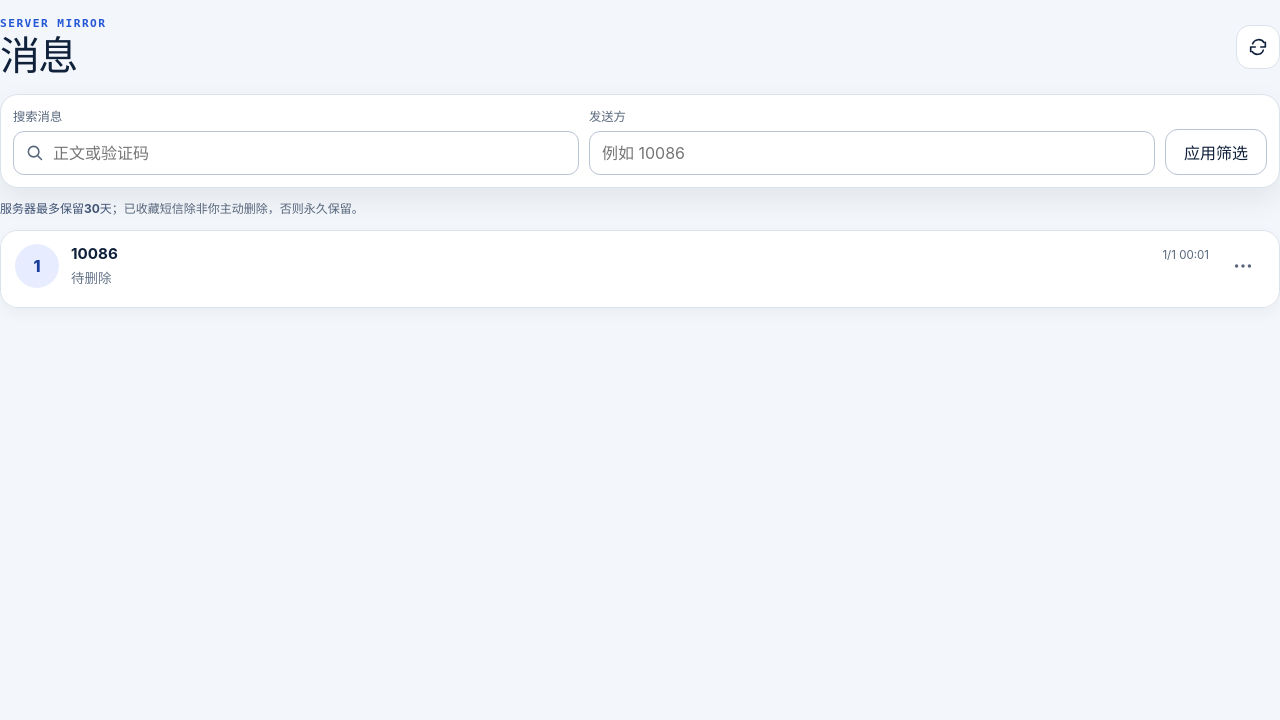
Scenario: MessagesView › 删除使用应用内二次确认且仅移除服务器列表记录
expect the text "待删除" is shown: met, box [71,270,111,286]
Click the button named "管理短信" at coordinates (1243, 266), box [1221,244,1265,288]
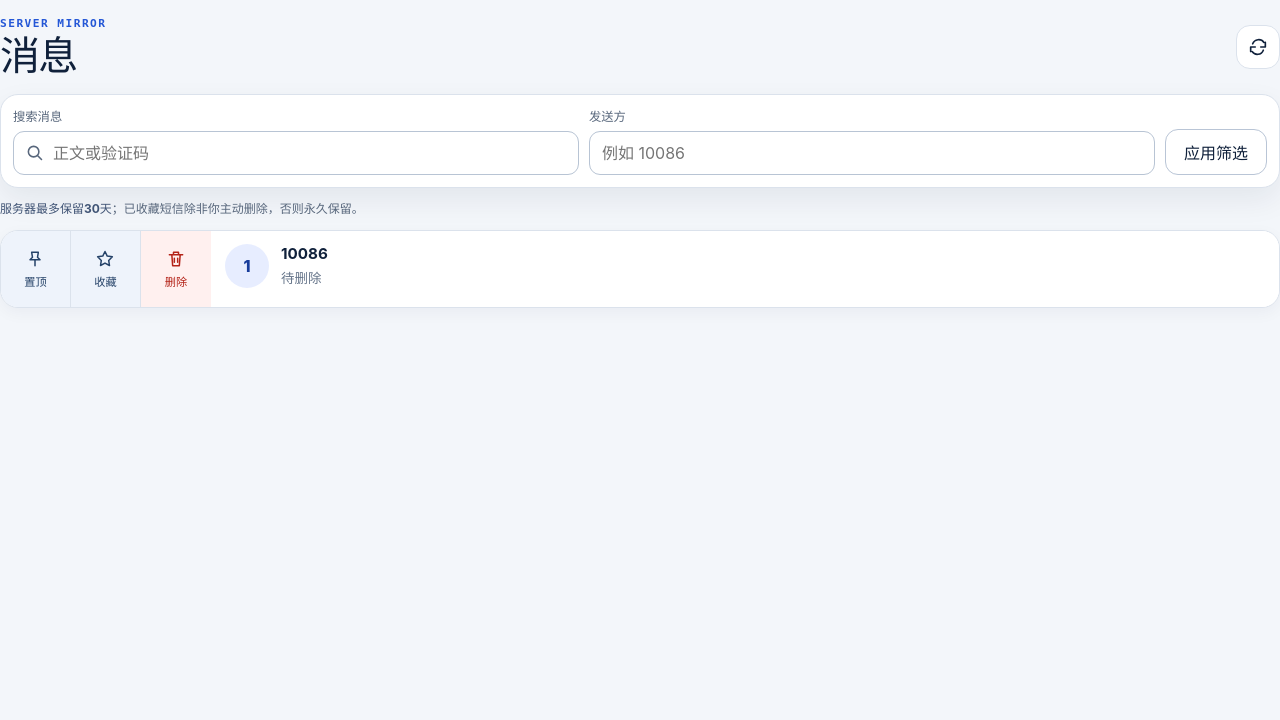
Click the button with aria-label "删除短信" at coordinates (176, 269), box [141,231,211,307]
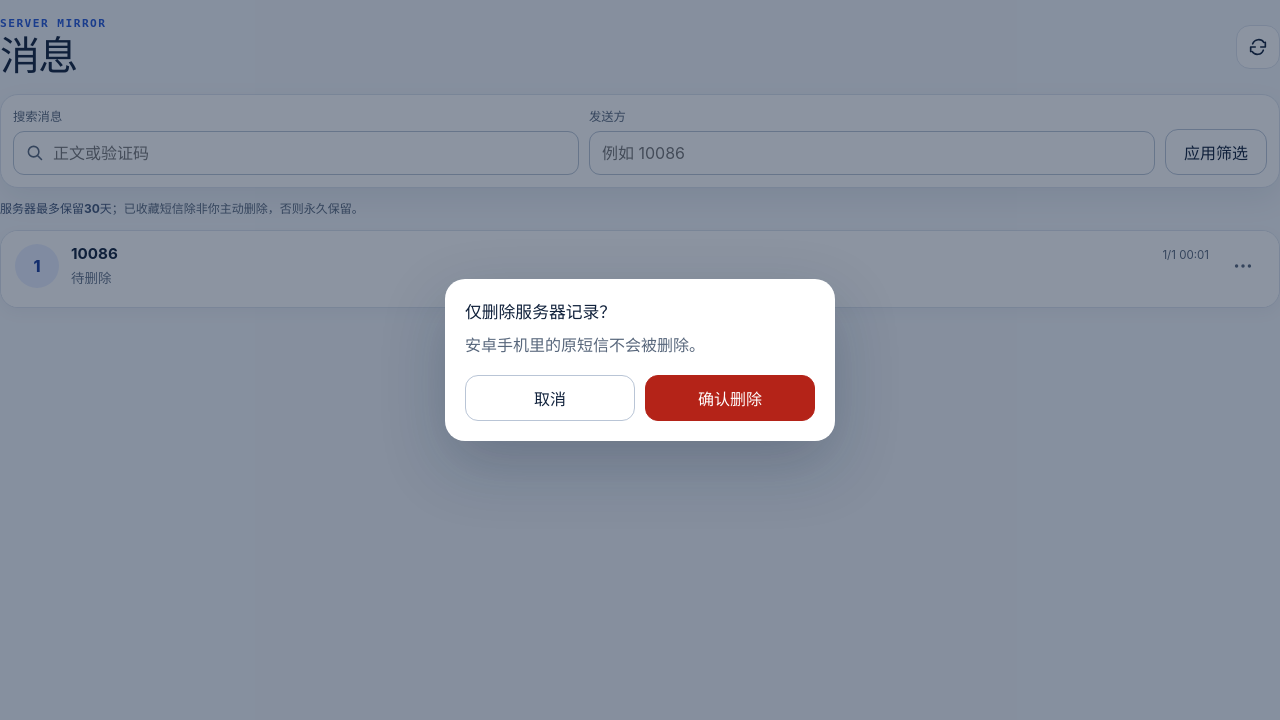
expect the dialog named "确认删除短信" is shown: met, box [445,279,835,441]
Click the button with aria-label "确认仅删除服务器记录" at coordinates (730, 398), box [645,375,815,421]
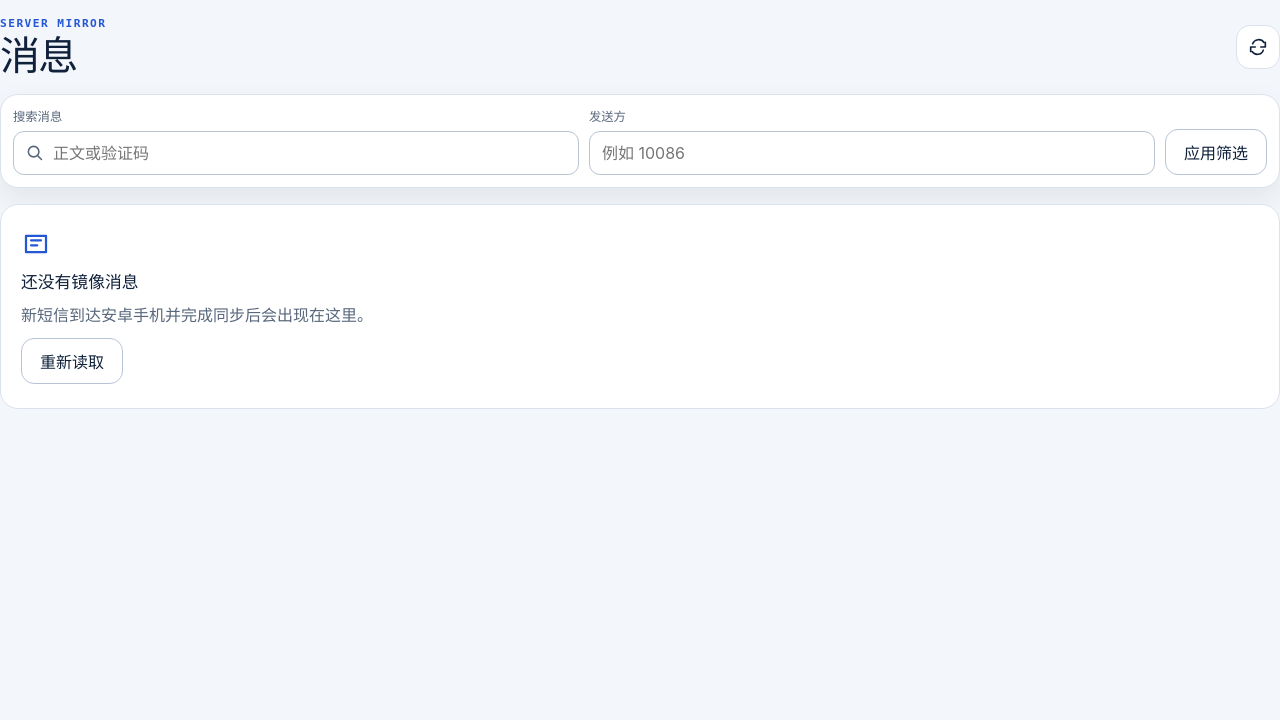
expect the button "待删除" is gone: met
